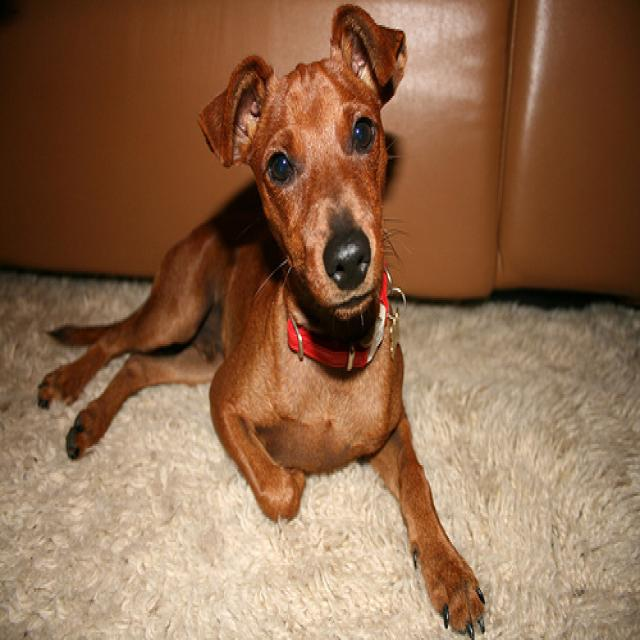dog-miniature_pinscher: (27, 2, 493, 636)
